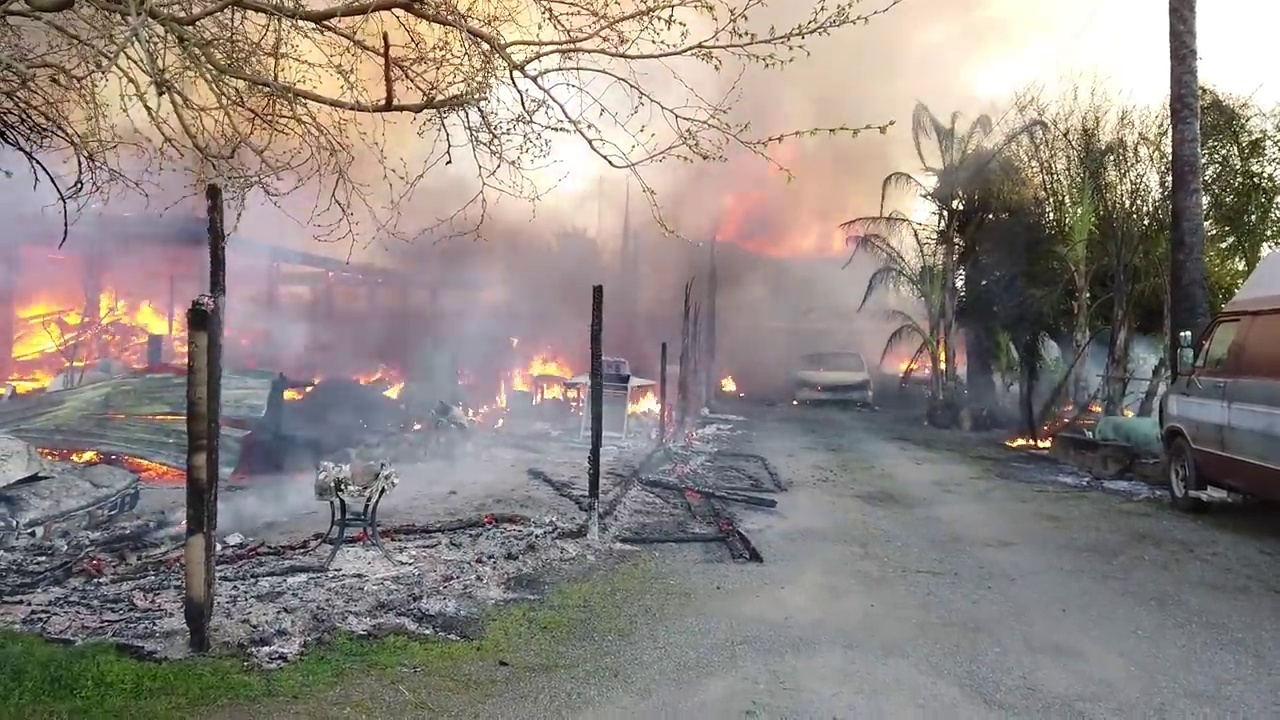fire: (1, 276, 184, 485), (711, 146, 858, 259), (462, 339, 587, 424), (283, 363, 410, 402), (629, 384, 665, 414), (1006, 428, 1057, 449), (718, 373, 739, 394), (901, 354, 925, 370), (1057, 398, 1078, 416), (1077, 412, 1100, 428), (1086, 397, 1102, 411)
smoke: (6, 1, 1056, 339), (741, 341, 900, 425)
